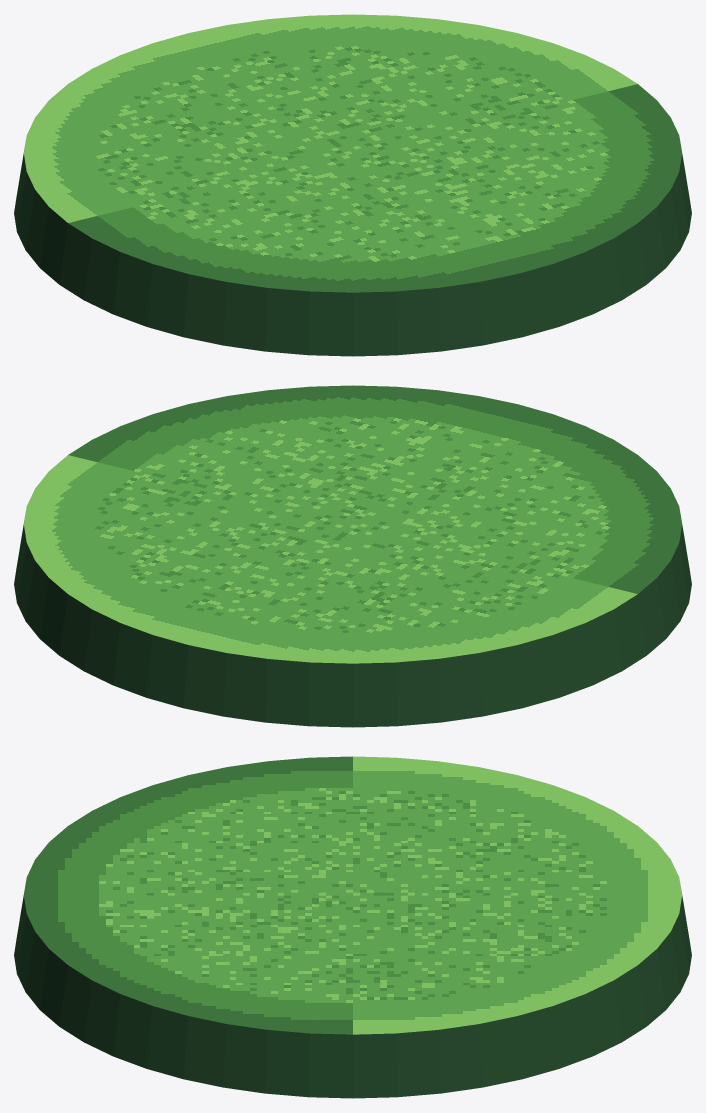
Rendered from platform_grass.glb.
The picture shows the model from 3 angles, top to bottom: view 1: azimuth 30°, elevation 25°; view 2: azimuth 150°, elevation 25°; view 3: azimuth 270°, elevation 25°; orthographic projection.
Visible parts, largest first — view 1: platform_grass; view 2: platform_grass; view 3: platform_grass.
Part boxes in pixels (left/top/right/bottom): platform_grass: left=14, top=14, right=691, bottom=356; platform_grass: left=14, top=385, right=691, bottom=727; platform_grass: left=14, top=756, right=691, bottom=1098.
Bounding box in the file's own units: 2.06 × 0.2 × 2.06.
Materials: 2 (1 with a texture image).
